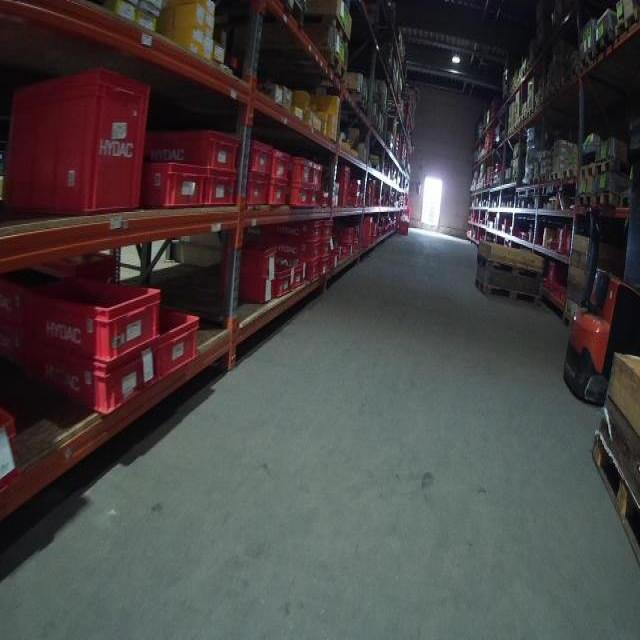pallet: (585, 434, 640, 570), (474, 279, 543, 309), (476, 251, 544, 281), (304, 12, 348, 48), (615, 8, 640, 39), (326, 53, 346, 82), (595, 160, 630, 174), (593, 190, 617, 206), (580, 164, 594, 181), (578, 192, 593, 207), (561, 167, 577, 179), (549, 172, 560, 181)
pallet_truck: (559, 197, 638, 407)
small_load_carrier: (10, 67, 160, 224), (4, 265, 164, 359), (3, 342, 160, 412), (130, 307, 204, 371), (145, 128, 242, 172), (242, 247, 309, 301), (135, 165, 211, 212), (194, 165, 241, 209), (239, 172, 273, 206), (243, 137, 271, 177), (272, 221, 334, 239), (263, 243, 320, 260), (266, 148, 294, 179), (266, 181, 290, 211), (289, 159, 313, 189), (306, 160, 324, 189), (287, 189, 308, 209), (299, 266, 324, 281), (318, 190, 335, 211), (317, 255, 334, 276), (304, 189, 319, 212), (317, 239, 331, 255)
